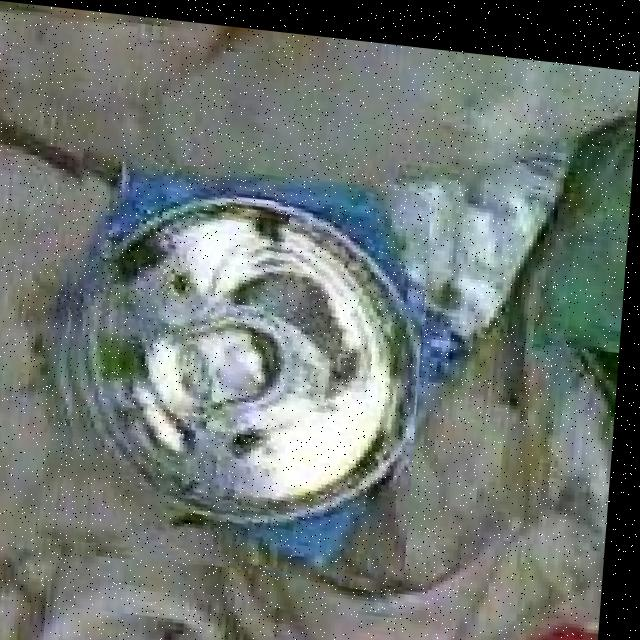litter: (47, 150, 435, 580)
